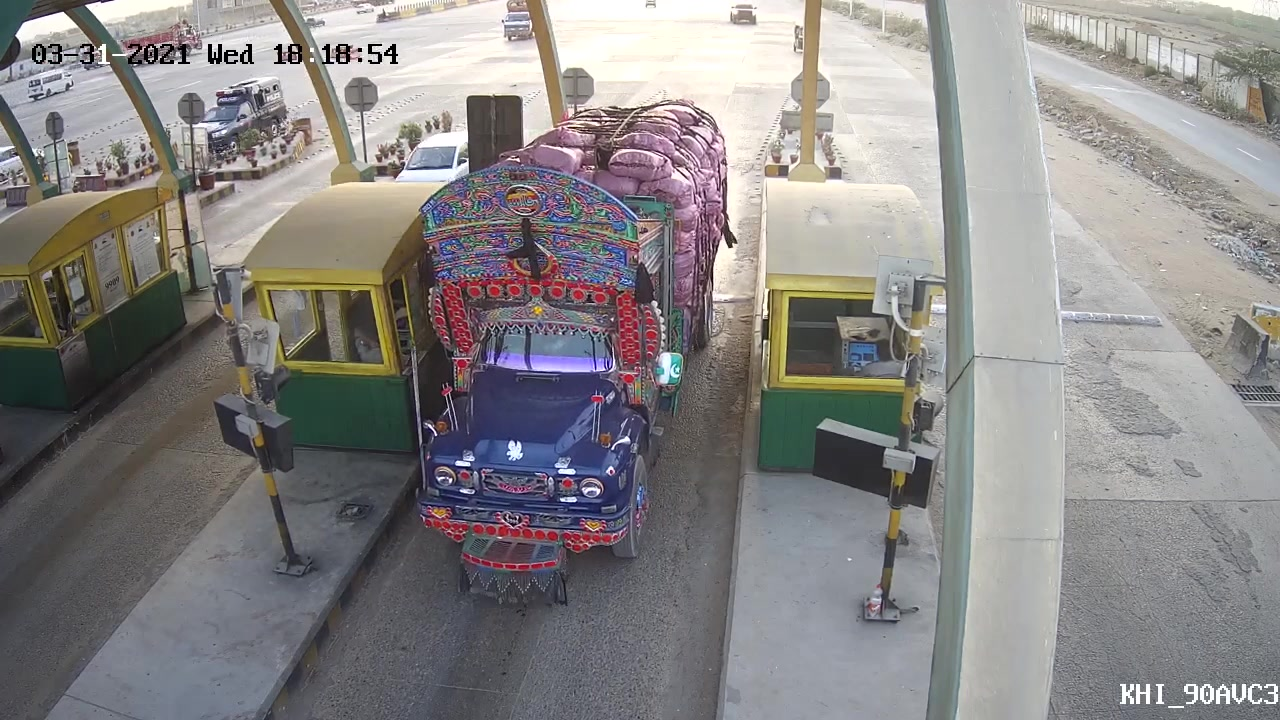F5: (389, 224, 714, 618)
